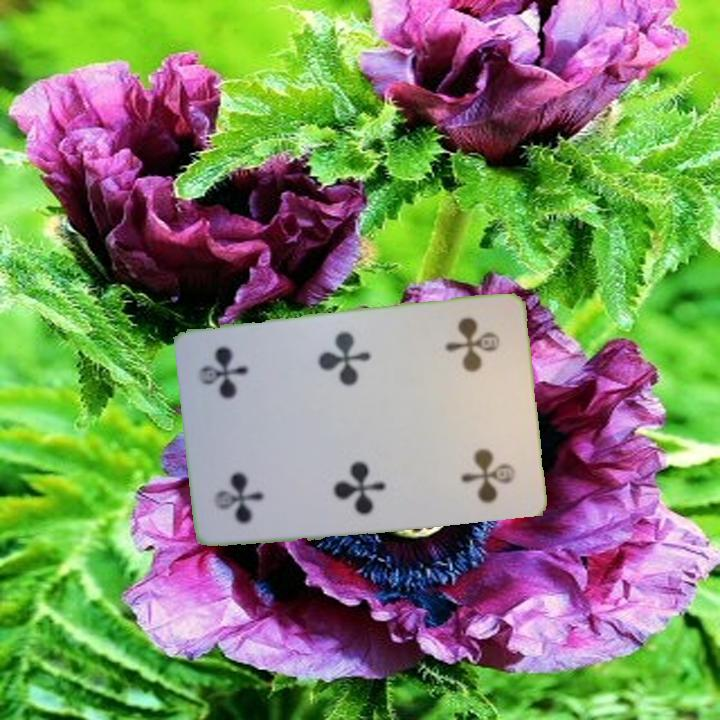c_6.png: (424, 308, 520, 416), (200, 426, 295, 534)
